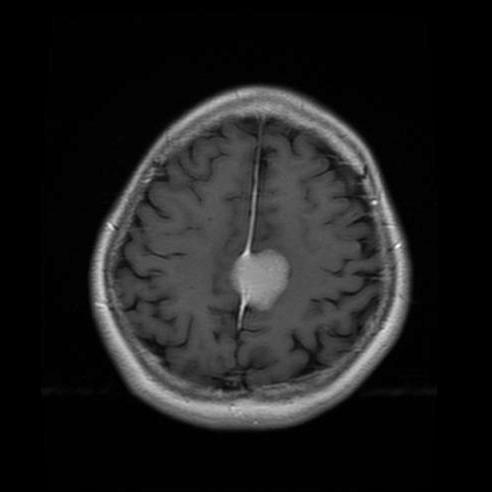Tumour-Meningioma: (186, 231, 331, 337)
